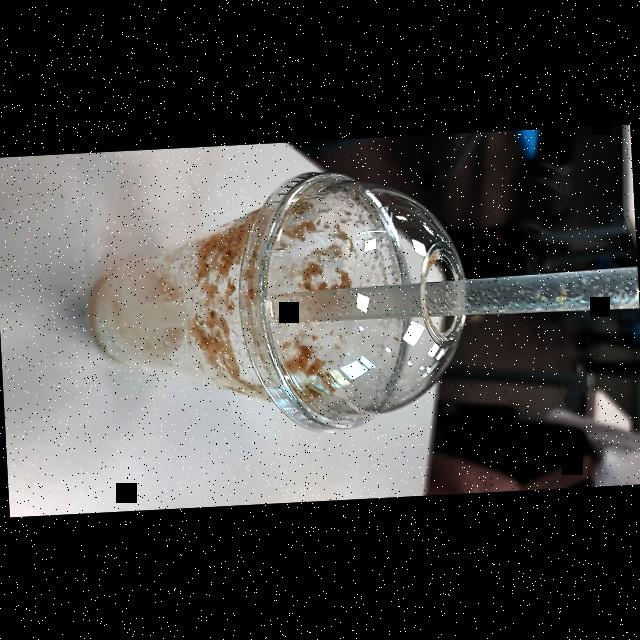plastic_cup: (46, 165, 480, 448)
plastic_cup_lid: (230, 162, 478, 436)
straw: (149, 262, 640, 346)
